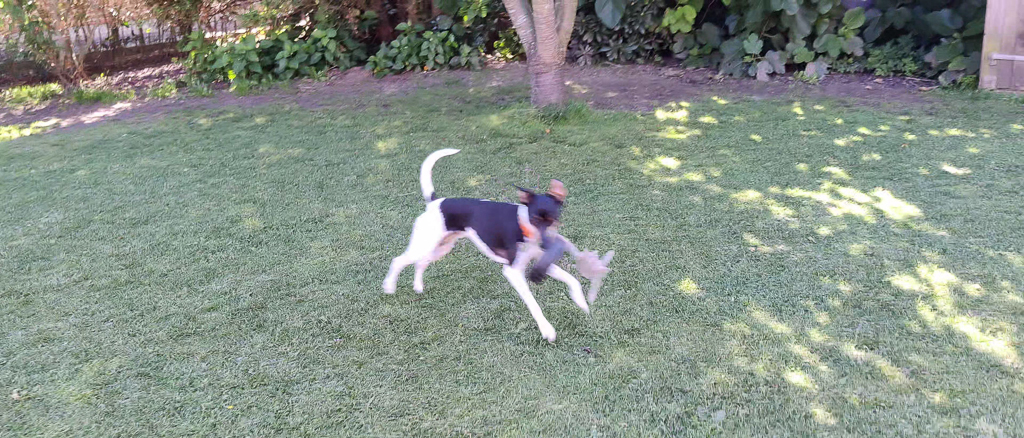Dog: (371, 140, 610, 353)
